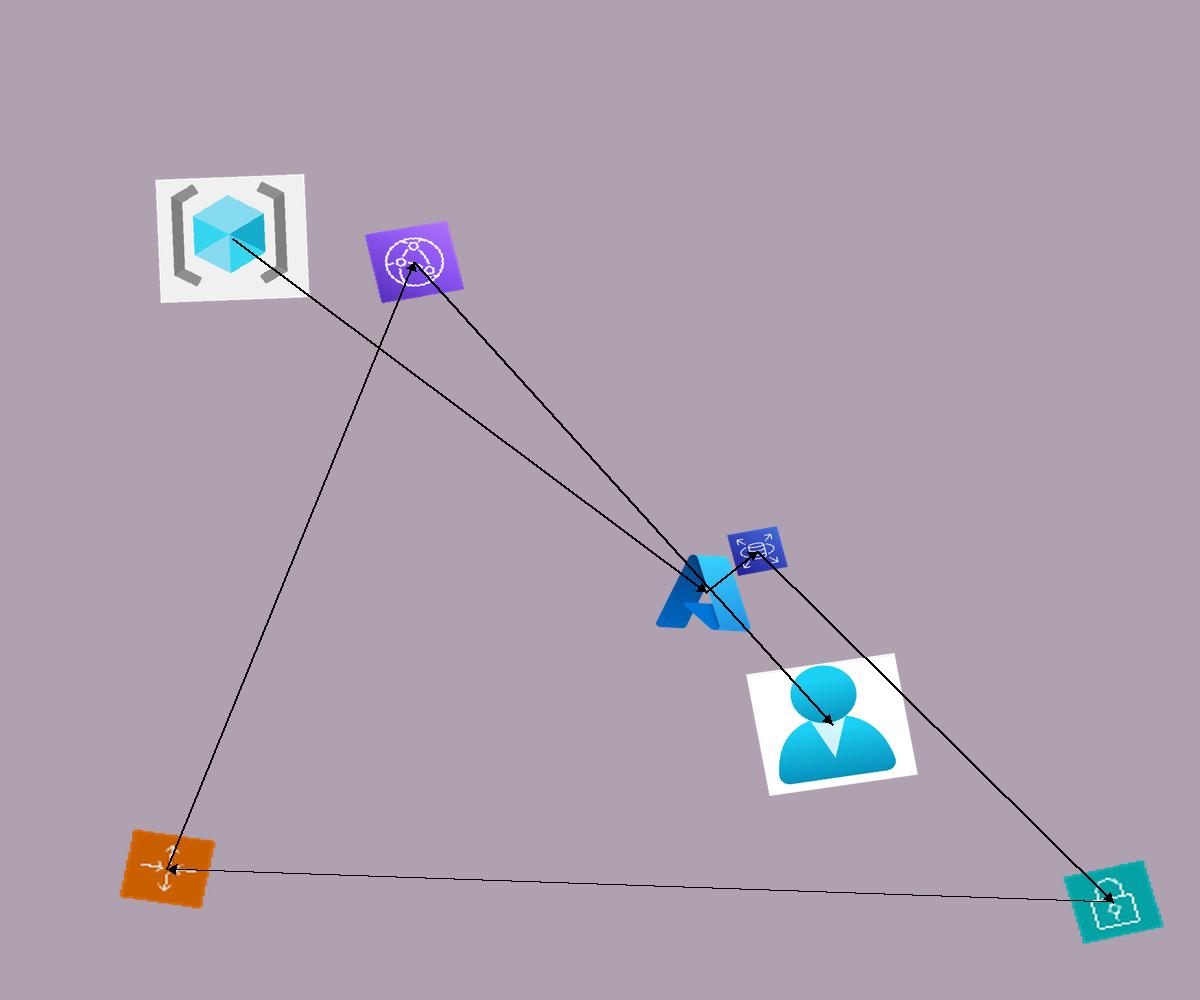AWS-CloudFront: (364, 220, 465, 304)
AWS-Private-subnet: (1062, 859, 1165, 945)
AWS-RDS: (727, 526, 788, 576)
AWS-Scaling-group: (118, 828, 217, 910)
Azure_resource_group: (155, 174, 310, 303)
Azure_services: (651, 547, 761, 638)
Azure_users: (746, 653, 918, 796)
